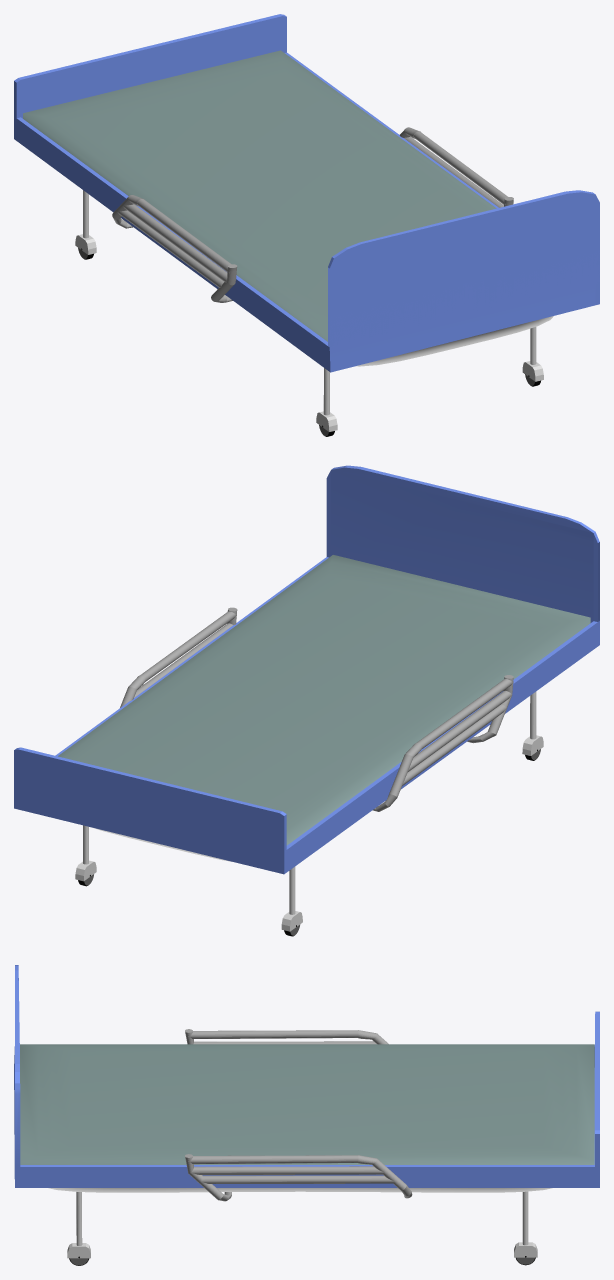
The model's file is BedModel.fbx.
3 views of the same model, one above another, from view 1: azimuth 30°, elevation 25°; view 2: azimuth 150°, elevation 25°; view 3: azimuth 270°, elevation 25° (orthographic). The views are drawn at different scales.
Parts seen in each view (by area): view 1: Cube.001; view 2: Cube.001; view 3: Cube.001.
Part boxes in pixels (box(x1,y1,x2,y2)): Cube.001: box(14, 14, 599, 436); Cube.001: box(14, 465, 599, 936); Cube.001: box(14, 965, 599, 1265).
Size of the model in its own units: 497 by 362 by 956.
